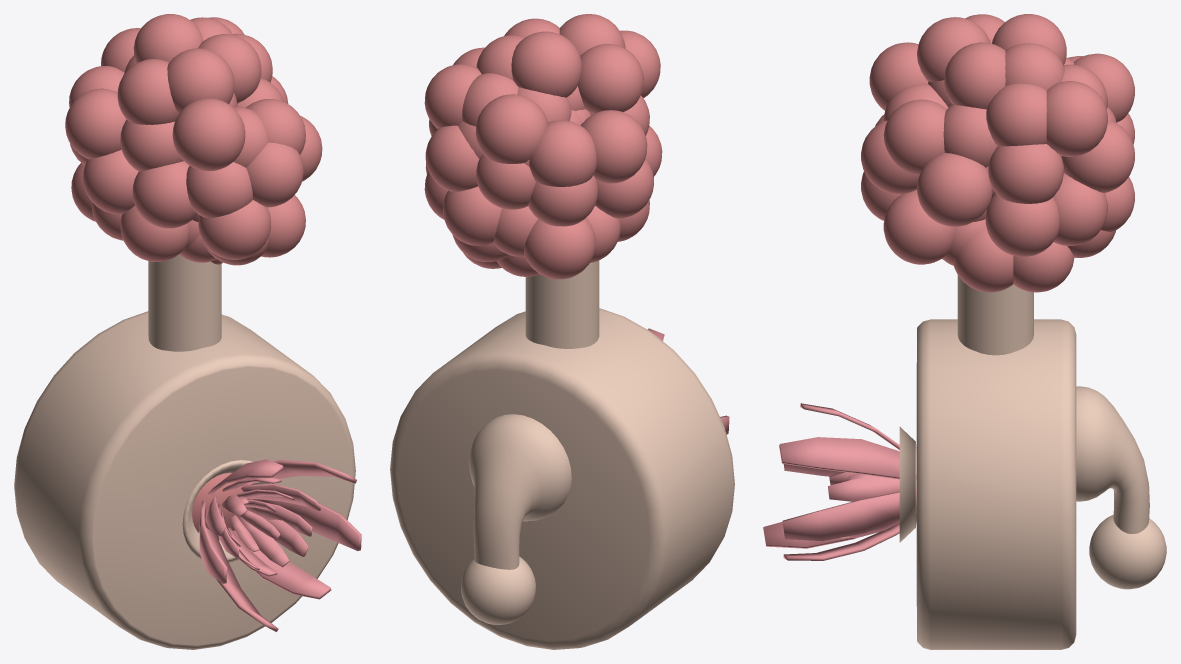
File: PLUMBUS.fbx
The picture shows the model from 3 angles, left to right: view 1: azimuth 30°, elevation 25°; view 2: azimuth 150°, elevation 25°; view 3: azimuth 270°, elevation 25°; orthographic projection. The views are drawn at different scales.
Parts seen in each view (by area): view 1: PLUMBUS; view 2: PLUMBUS; view 3: PLUMBUS.
Boxes of the visible parts, bbox=[...] form: PLUMBUS: bbox=[14, 14, 361, 649]; PLUMBUS: bbox=[390, 14, 734, 649]; PLUMBUS: bbox=[763, 14, 1166, 649].
Size of the model in its own units: 41.16 by 84.8 by 50.17.
